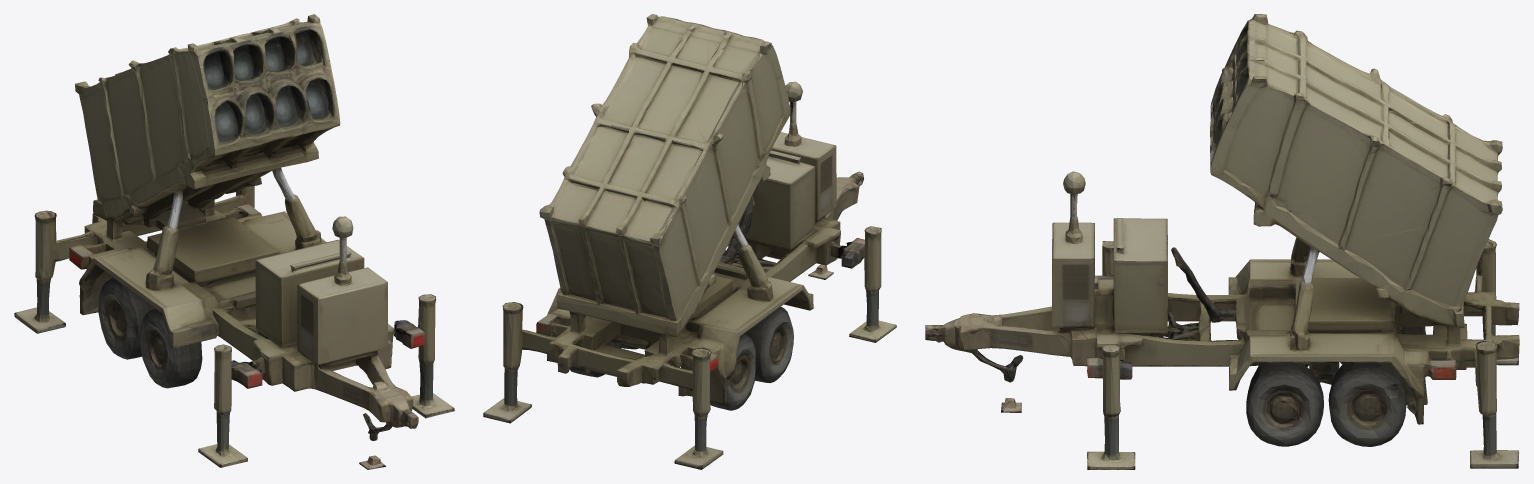
File: launcher.glb
3 renders of one model, left to right at view 1: azimuth 30°, elevation 25°; view 2: azimuth 150°, elevation 25°; view 3: azimuth 270°, elevation 25°, orthographic. The views are drawn at different scales.
Visible parts, largest first — view 1: geometry_0; view 2: geometry_0; view 3: geometry_0.
Boxes of the visible parts, box(x1,y1,x2,y2) form: geometry_0: box(14, 14, 454, 469); geometry_0: box(483, 14, 896, 469); geometry_0: box(925, 14, 1519, 469).
Size of the model in its own units: 0.4755 by 0.6773 by 1.
1 material, 1 textured.
